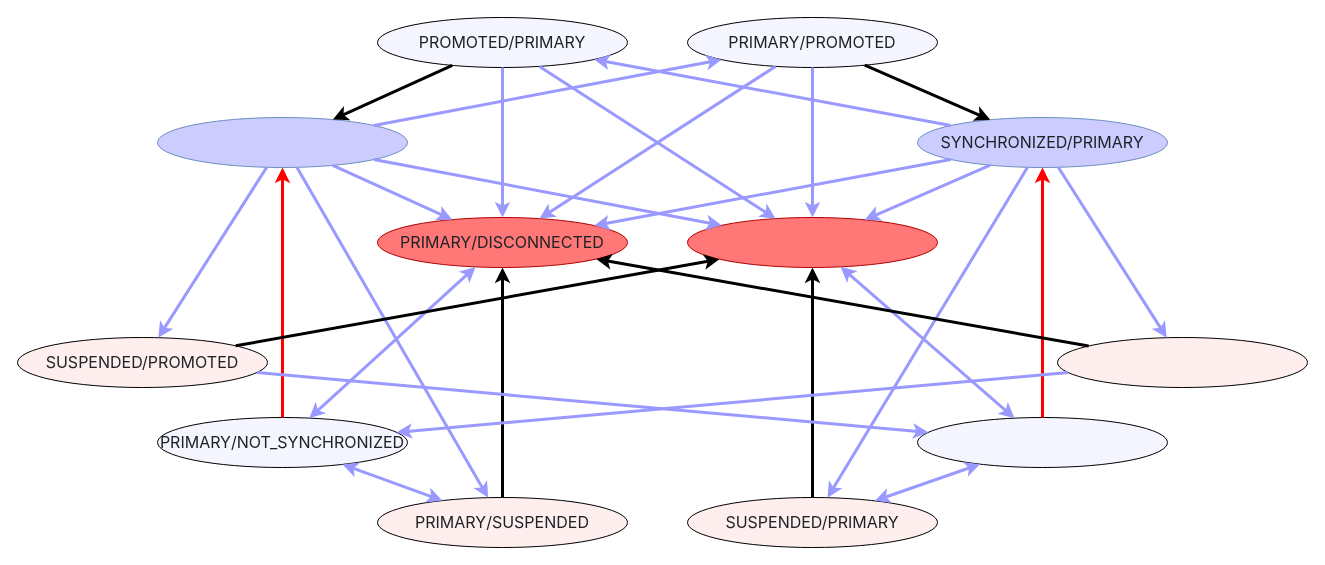
The diagram is 1325 pixels wide and 565 high, and some of its shapes have lost their labels. The centre of each missing label's shape, as x and y in pixels:
"DISCONNECTED/PRIMARY" goes at (x=812, y=242).
"NOT_SYNCHRONIZED/ PRIMARY" goes at (x=1042, y=442).
"PRIMARY/SYNCHRONIZED" goes at (x=282, y=142).
"PROMOTED/SUSPENDED" goes at (x=1182, y=362).
